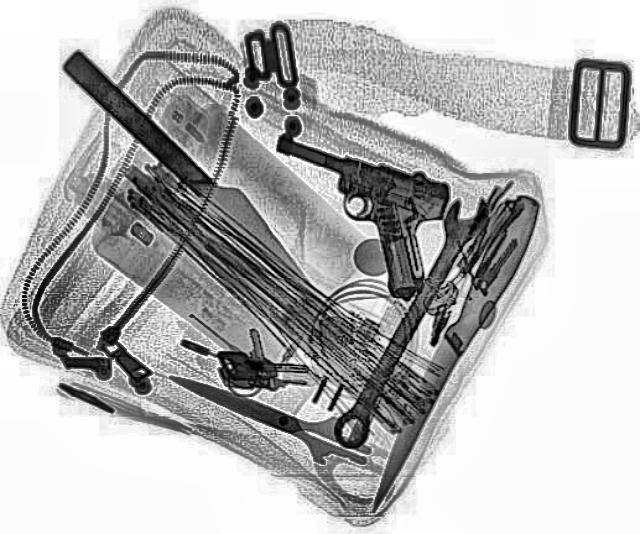Gun: (223, 129, 472, 301)
Knife: (54, 40, 338, 308), (356, 189, 550, 516), (152, 356, 382, 476)
Wrench: (319, 187, 501, 451)
